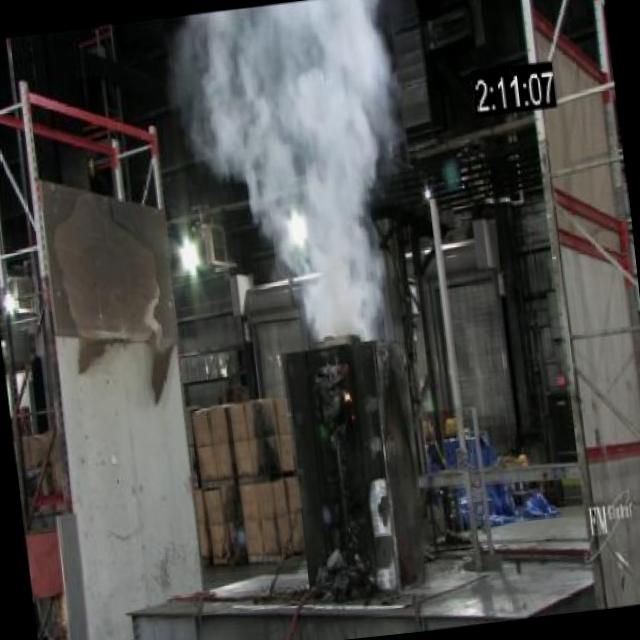smoke: (193, 0, 404, 351)
